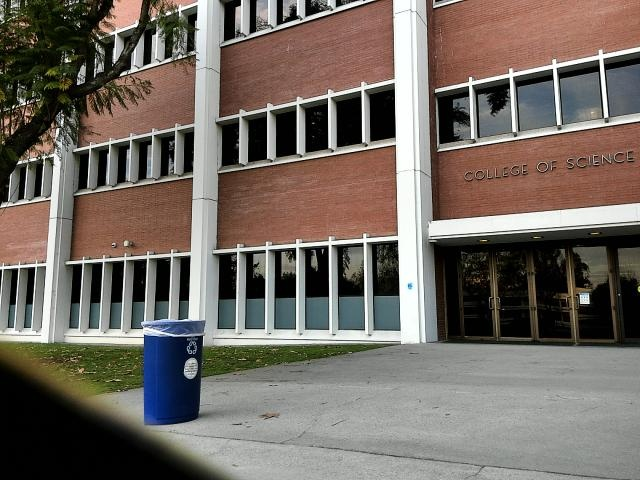trashcan_open: (136, 311, 211, 435)
